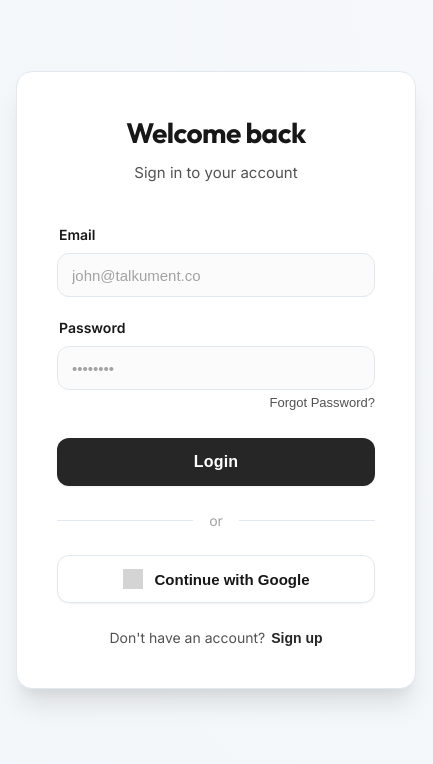
Scenario: AuthPage › switches to signup mode
Click the button "Sign up": (297, 638) [271,630,322,646]
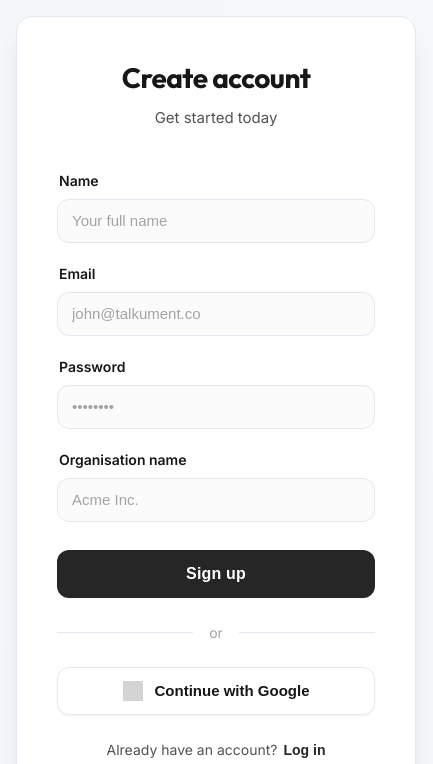
Now the heading "Create account" is shown, box [122,60,310,95]
Now the field with placeholder "Your full name" is shown, box [57,198,375,242]
